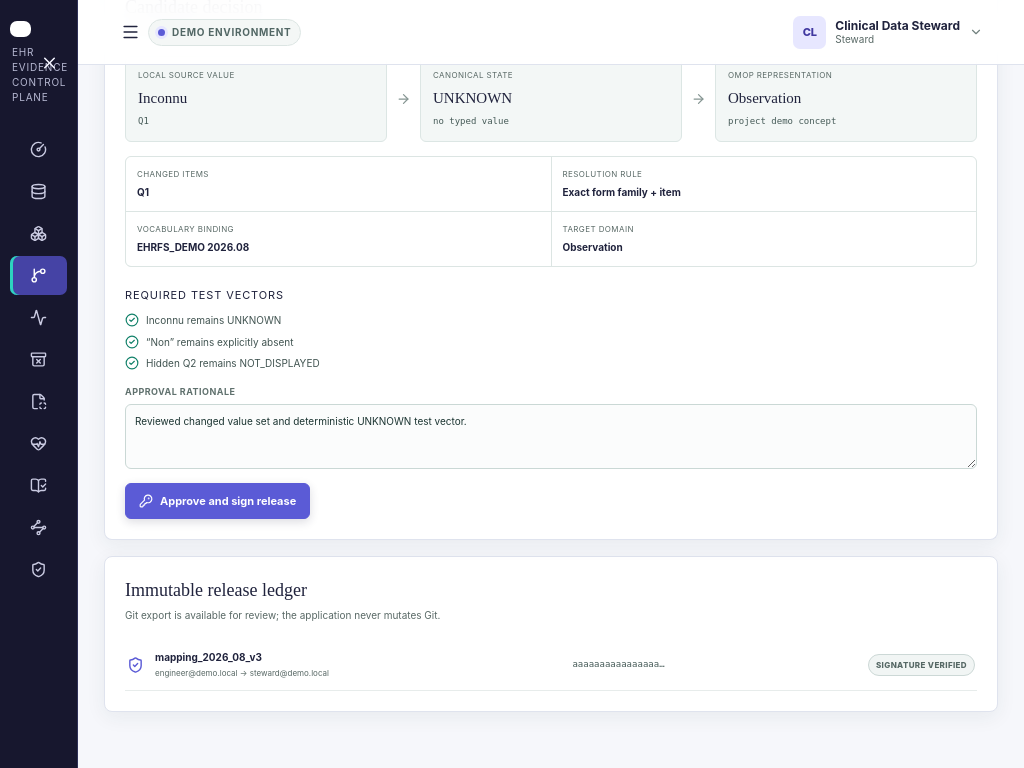
Scenario: workspace routing › approves a reviewed mapping with the steward persona
(page scrolled)
Click the button "Approve and sign release" at (218, 501), box [125,483,310,519]
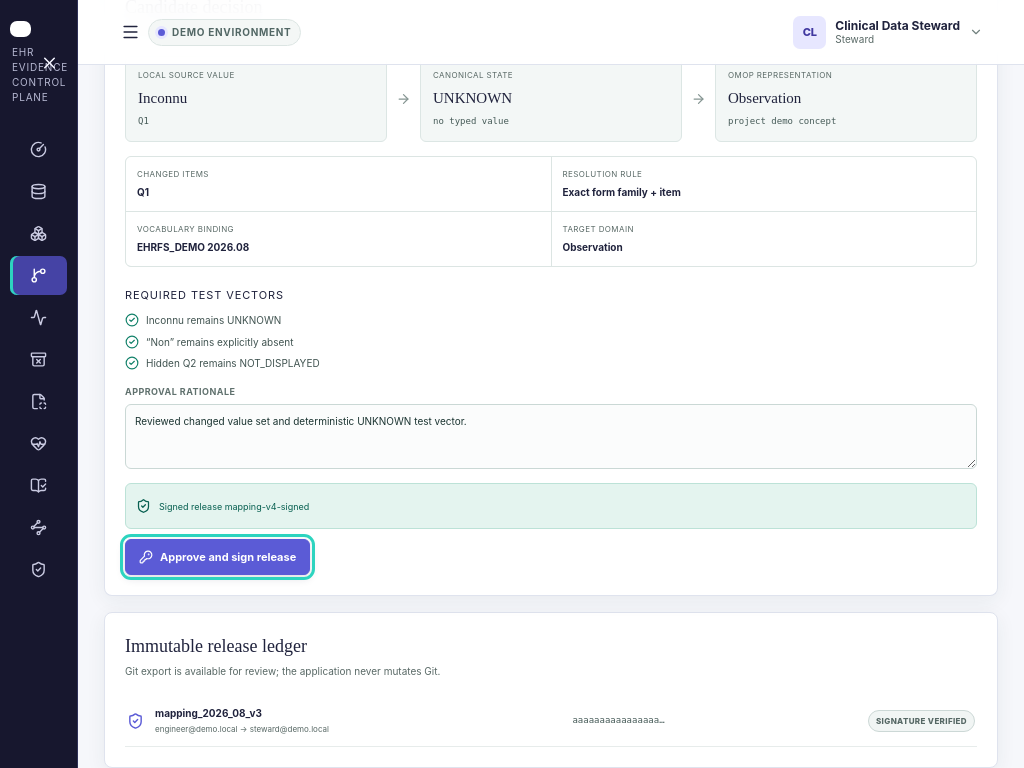
Expected: the text "Signed release mapping-v4-signed" is shown, [125,483,977,529]
